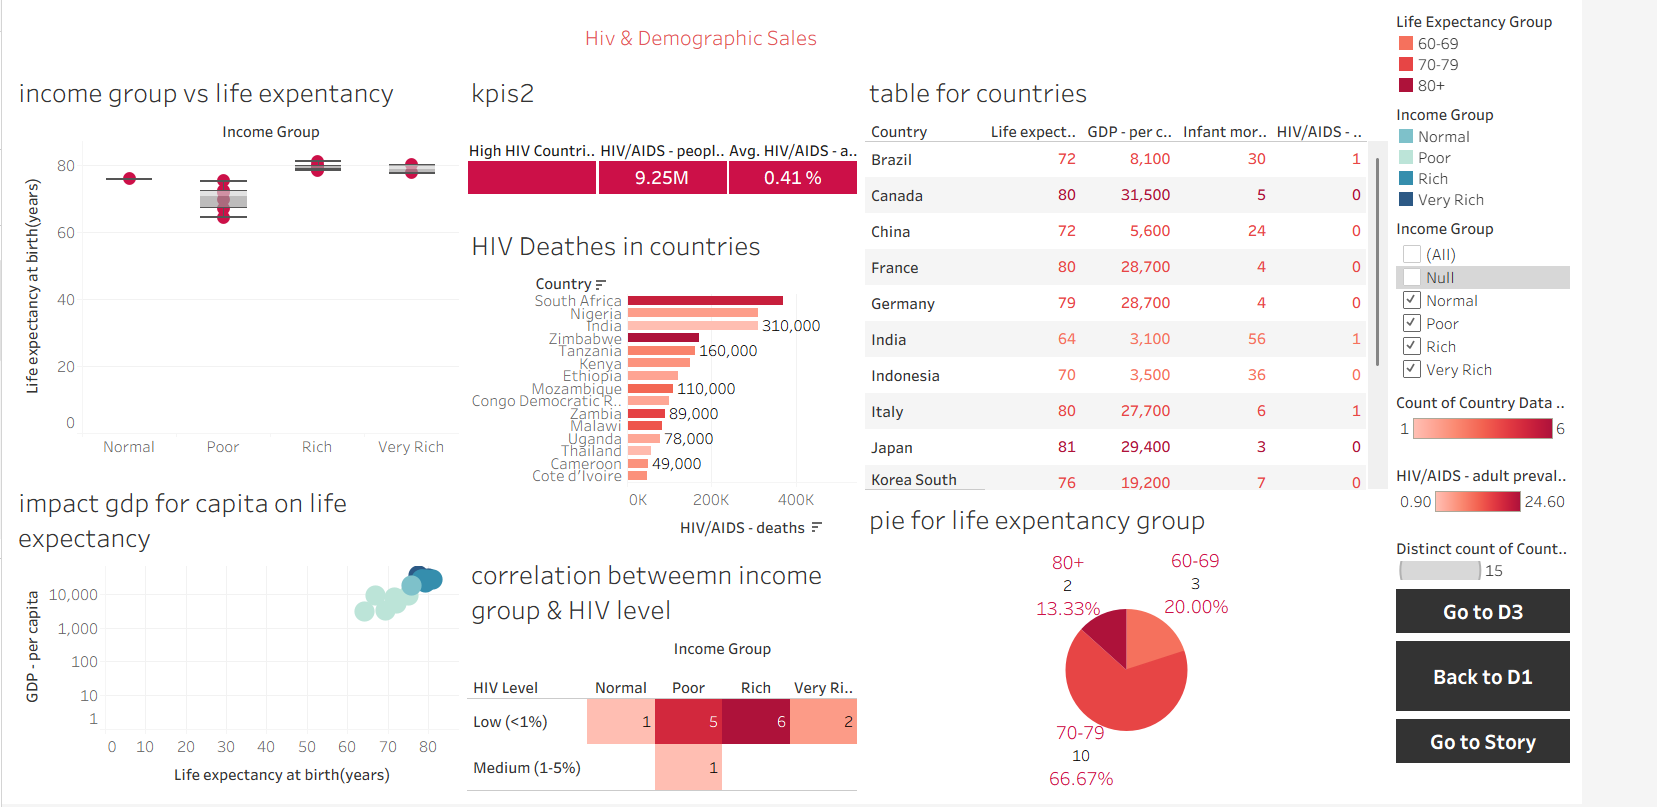

Layout of this report page (visuals, bound fields, positions):
{"tool":"tableau","page":{"name":"Dashboard 2","canvas":[1580,805],"ordinal":1},"visuals":[{"type":"text","box":[8,8,1382,60]},{"type":"legend","title":"table for countries","param":"[federated.0arbnf50yyzaqr17demmi00kzyr3].[none:Calculation_1860428070674438:nk]","box":[1390,8,182,93]},{"type":"worksheet","title":"income group vs life expentancy","mark":"Circle","rows":["Life expectancy at birth(years)"],"cols":["Calculation_1860428013744130"],"box":[8,68,452.8,410]},{"type":"worksheet","title":"kpis2","mark":"Square","box":[460.8,68,398.6,153]},{"type":"worksheet","title":"table for countries","mark":"Automatic","rows":["Country"],"box":[859.4,68,530.6,427]},{"type":"legend","title":"impact gdp for capita on life expectancy ","param":"[federated.0arbnf50yyzaqr17demmi00kzyr3].[none:Calculation_1860428013744130:nk]","box":[1390,101,182,114]},{"type":"filter","title":"income group vs life expentancy","param":"[federated.0arbnf50yyzaqr17demmi00kzyr3].[none:Calculation_1860428013744130:nk]","box":[1390,215,182,174]},{"type":"worksheet","title":"HIV Deathes in countries","mark":"Bar","rows":["Country"],"cols":["HIV/AIDS - deaths"],"box":[460.8,221,398.6,329]},{"type":"legend","title":"correlation betweemn income group & HIV level","param":"[federated.0arbnf50yyzaqr17demmi00kzyr3].[__tableau_internal_object_id__].[cnt:C","box":[1390,389,182,73]},{"type":"legend","title":"HIV Deathes in countries","param":"[federated.0arbnf50yyzaqr17demmi00kzyr3].[sum:HIV/AIDS - adult prevalence rate(%","box":[1390,462,182,73]},{"type":"worksheet","title":"impact gdp for capita on life expectancy ","mark":"Circle","rows":["GDP - per capita"],"cols":["Life expectancy at birth(years)"],"box":[8,478,452.8,319]},{"type":"worksheet","title":"pie for life expentancy group","mark":"Pie","box":[859.4,495,530.6,302]},{"type":"legend","title":"pie for life expentancy group","param":"[federated.0arbnf50yyzaqr17demmi00kzyr3].[ctd:Country:qk]","box":[1390,535,182,51]},{"type":"worksheet","title":"correlation betweemn income group & HIV level","mark":"Square","rows":["Calculation_1860428071227399"],"cols":["Calculation_1860428013744130"],"box":[460.8,550,398.6,247]},{"type":"dashboard-object","box":[1390,586,182,52]},{"type":"dashboard-object","box":[1390,638,182,78]},{"type":"dashboard-object","box":[1390,716,182,52]}]}

Visuals, with their boxes on the page's 1580x805 design canvas (x1, y1, x2, y2). These are canvas units, not pixel positions in the 1657x807 screenshot, which may show the page scaled, cropped or inside an application window:
text: bbox=(8, 8, 1390, 68)
"table for countries" legend: bbox=(1390, 8, 1572, 101)
"income group vs life expentancy" worksheet (Circle marks): bbox=(8, 68, 461, 478)
"kpis2" worksheet (Square marks): bbox=(461, 68, 859, 221)
"table for countries" worksheet: bbox=(859, 68, 1390, 495)
"impact gdp for capita on life expectancy " legend: bbox=(1390, 101, 1572, 215)
"income group vs life expentancy" filter: bbox=(1390, 215, 1572, 389)
"HIV Deathes in countries" worksheet (Bar marks): bbox=(461, 221, 859, 550)
"correlation betweemn income group & HIV level" legend: bbox=(1390, 389, 1572, 462)
"HIV Deathes in countries" legend: bbox=(1390, 462, 1572, 535)
"impact gdp for capita on life expectancy " worksheet (Circle marks): bbox=(8, 478, 461, 797)
"pie for life expentancy group" worksheet (Pie marks): bbox=(859, 495, 1390, 797)
"pie for life expentancy group" legend: bbox=(1390, 535, 1572, 586)
"correlation betweemn income group & HIV level" worksheet (Square marks): bbox=(461, 550, 859, 797)
dashboard-object: bbox=(1390, 586, 1572, 638)
dashboard-object: bbox=(1390, 638, 1572, 716)
dashboard-object: bbox=(1390, 716, 1572, 768)
